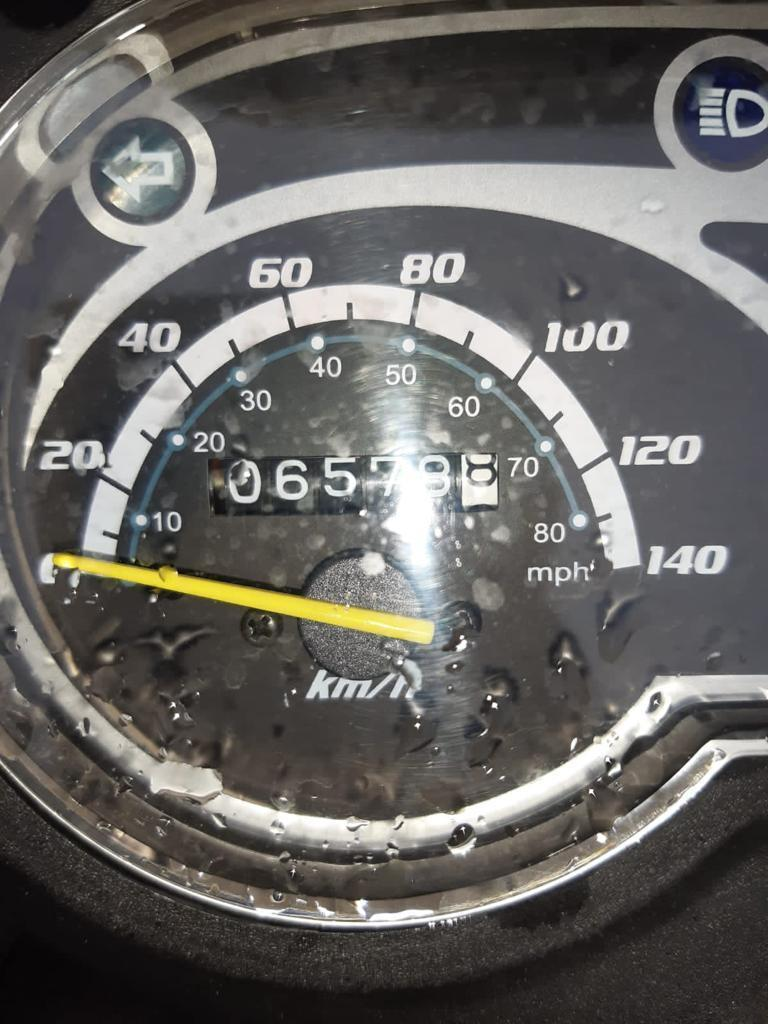0: (226, 455, 263, 511)
5: (320, 453, 359, 503)
6: (274, 454, 310, 505)
7: (368, 452, 407, 506)
8: (461, 449, 501, 493), (417, 452, 453, 499)
odometer: (212, 443, 509, 527)
